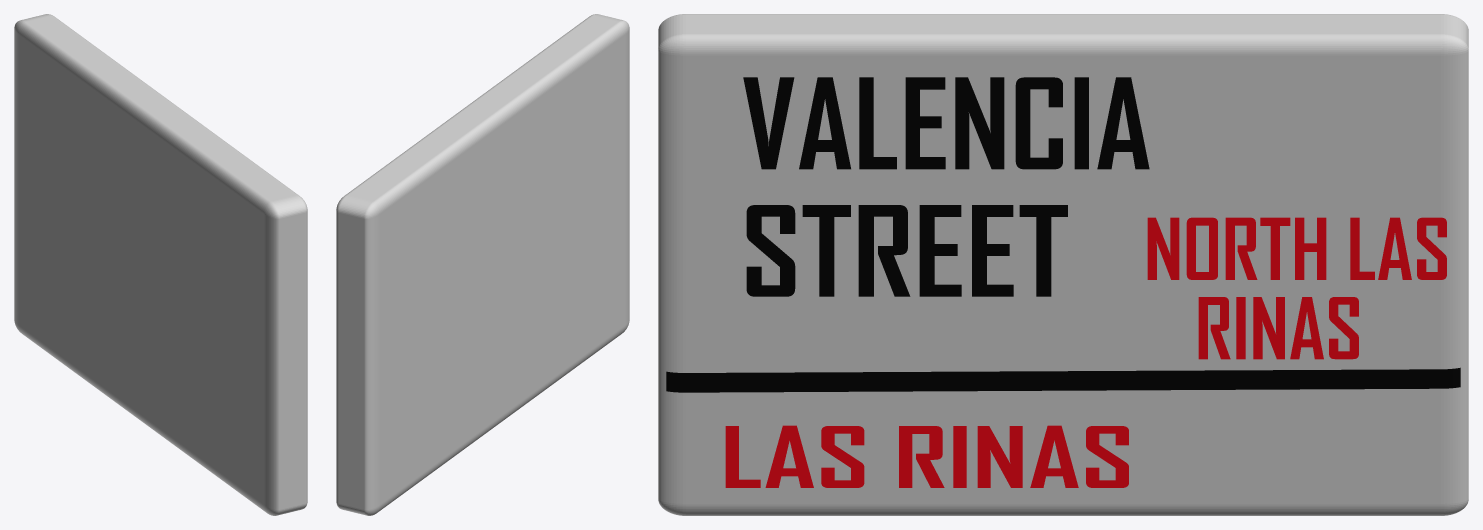
The model's file is uk_styled_street_sign_7.fbx.
3 renders of one model, left to right at view 1: azimuth 30°, elevation 25°; view 2: azimuth 150°, elevation 25°; view 3: azimuth 270°, elevation 25°, orthographic. The views are drawn at different scales.
Parts seen in each view (by area): view 1: Cube; view 2: Cube; view 3: Cube, Text, Text.001, Text.002, Text.003, Text.004.
Part boxes in pixels (<box>): Cube: <box>14,14,307,515</box>; Cube: <box>336,14,629,515</box>; Cube: <box>658,14,1468,515</box>; Text: <box>743,77,1149,169</box>; Text.001: <box>746,205,1067,296</box>; Text.002: <box>725,425,1128,487</box>; Text.003: <box>1147,217,1446,279</box>; Text.004: <box>1198,297,1358,359</box>.
Size of the model in its own units: 1.63 by 11.91 by 18.18.
